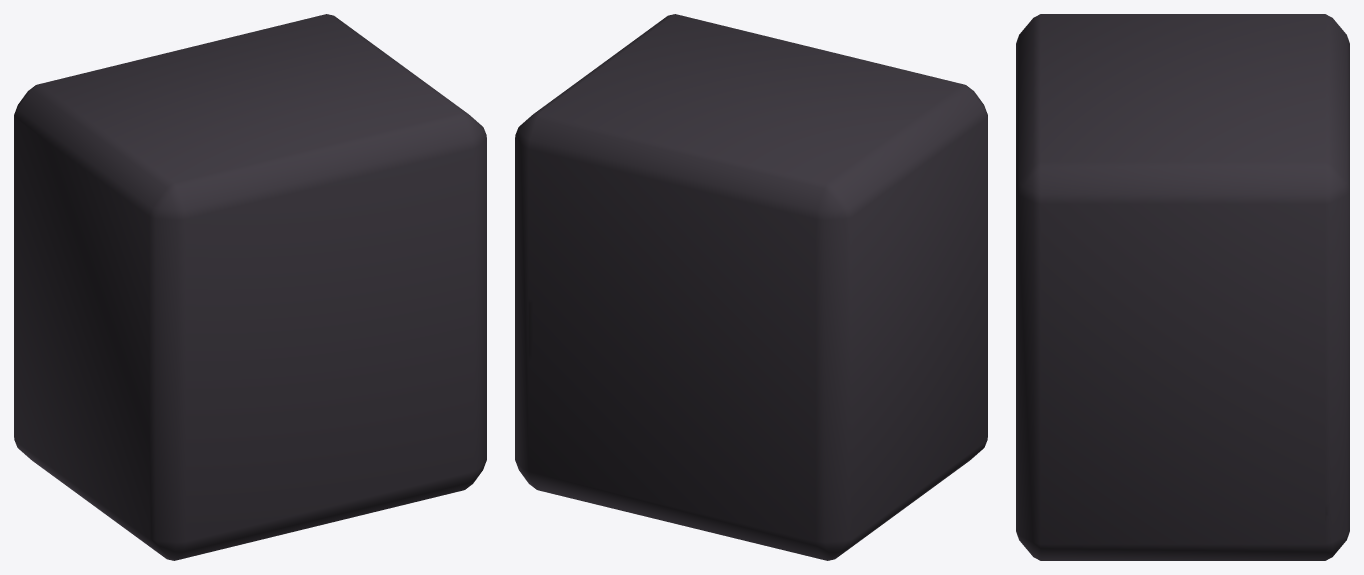
Rendered from Pumpkin_Brick_3.fbx.
3 views of the same model, side by side, from view 1: azimuth 30°, elevation 25°; view 2: azimuth 150°, elevation 25°; view 3: azimuth 270°, elevation 25° (orthographic). The views are drawn at different scales.
Visible parts, largest first — view 1: Cube.003; view 2: Cube.003; view 3: Cube.003.
Part boxes in pixels (x1,y1,x2,y2): Cube.003: (14, 14, 486, 560); Cube.003: (515, 14, 987, 560); Cube.003: (1016, 14, 1349, 560).
Size of the model in its own units: 77.09 by 82.65 by 62.72.
